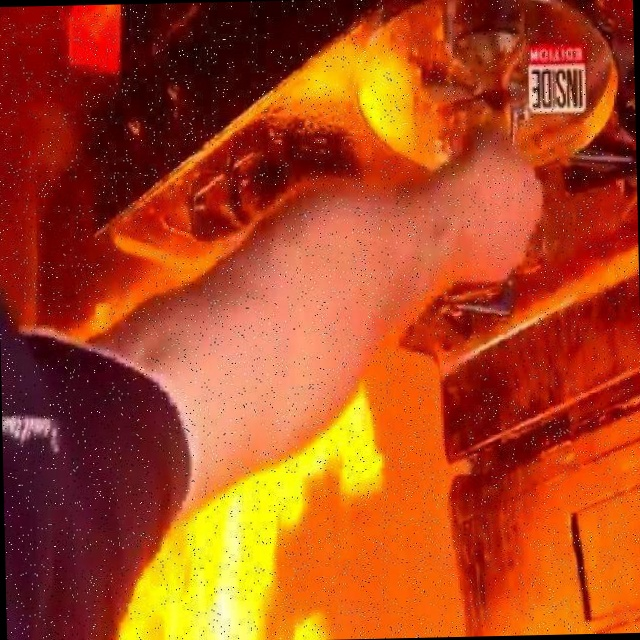fire: (114, 410, 386, 640), (300, 9, 474, 206)
